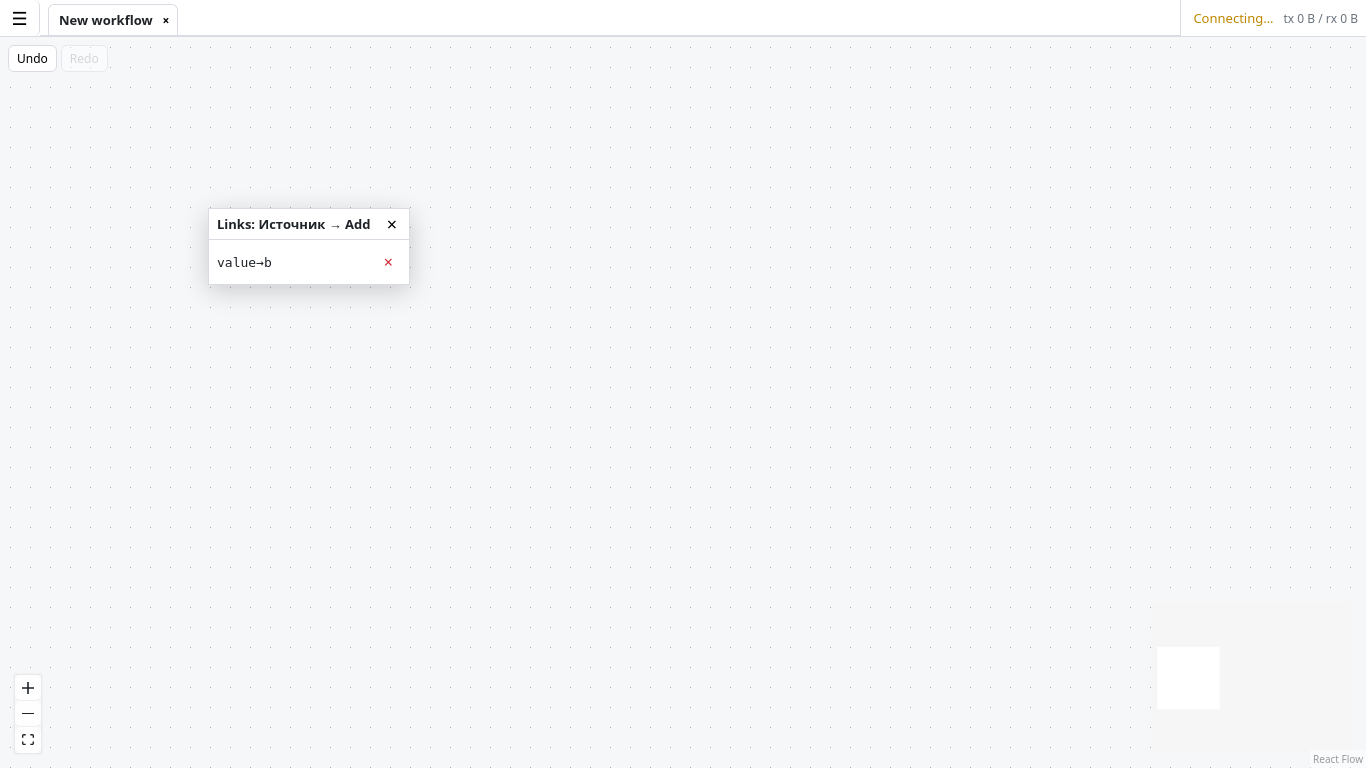
окно связей › связь удалена извне — список обновился; связей не осталось — окно закрылось
Expected: the number of list items is 1, [217,248,401,276]
Click the button named "Delete link “value→b”" at [388, 262], box [376,250,401,274]
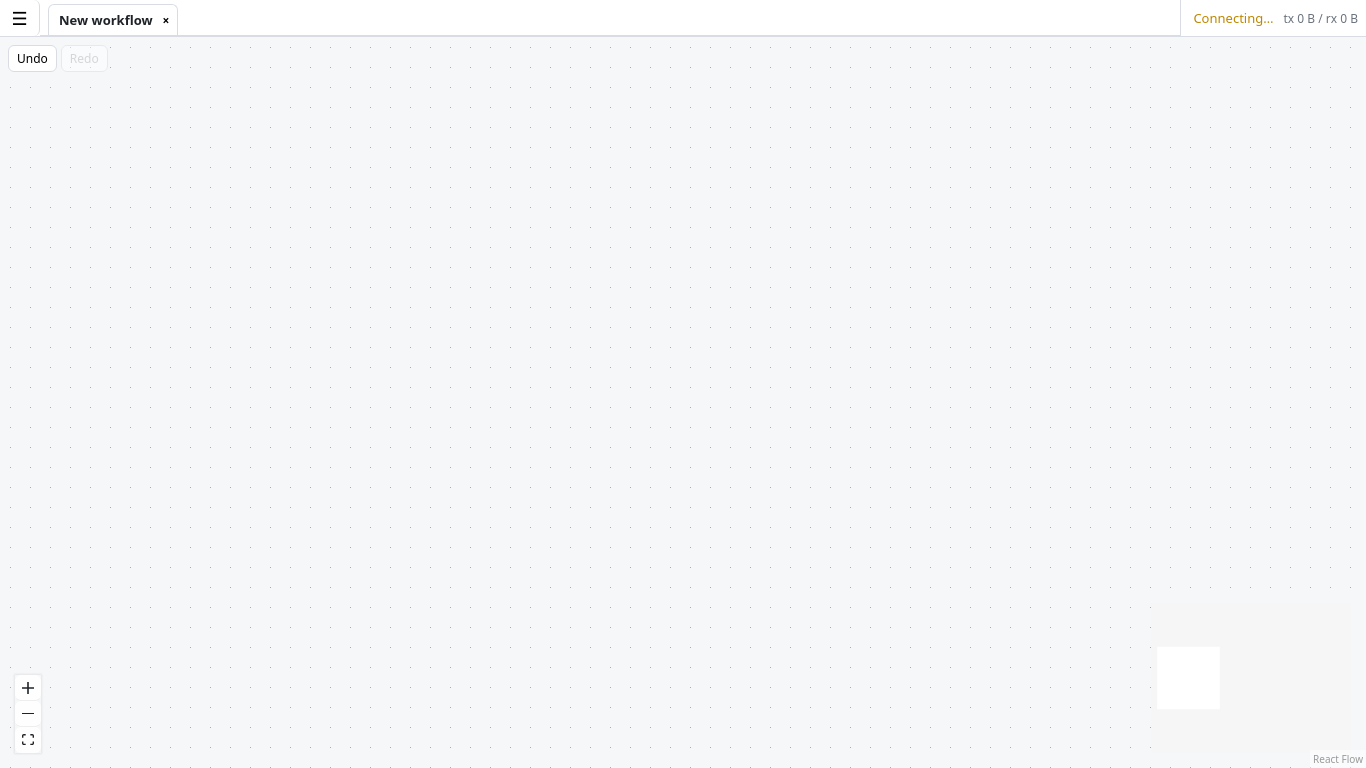
Now the text "Links: Источник → Add" is gone
